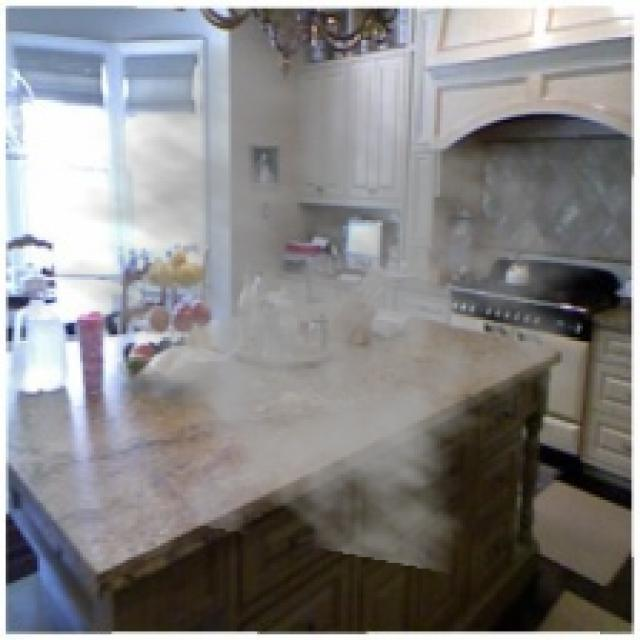Smoke: (31, 34, 600, 574)
